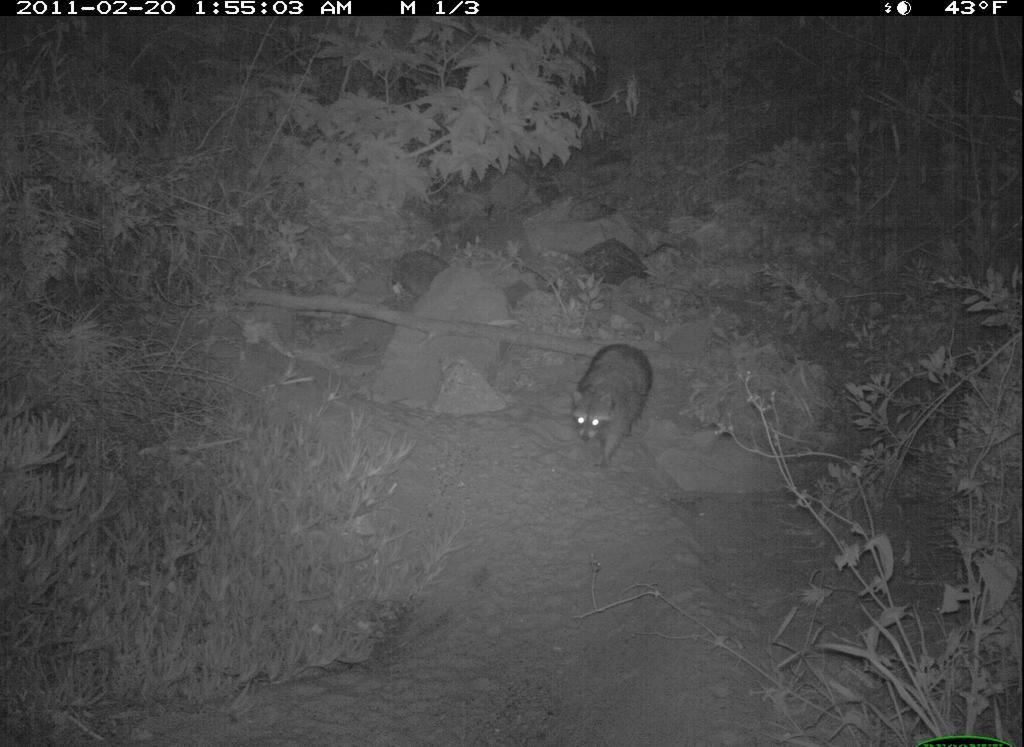raccoon: (568, 314, 665, 487)
